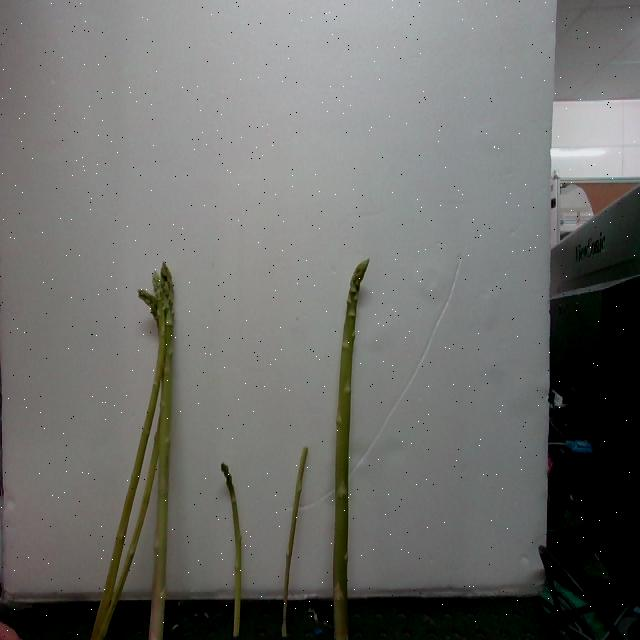aspargus: (333, 262, 369, 640), (219, 466, 245, 640)
